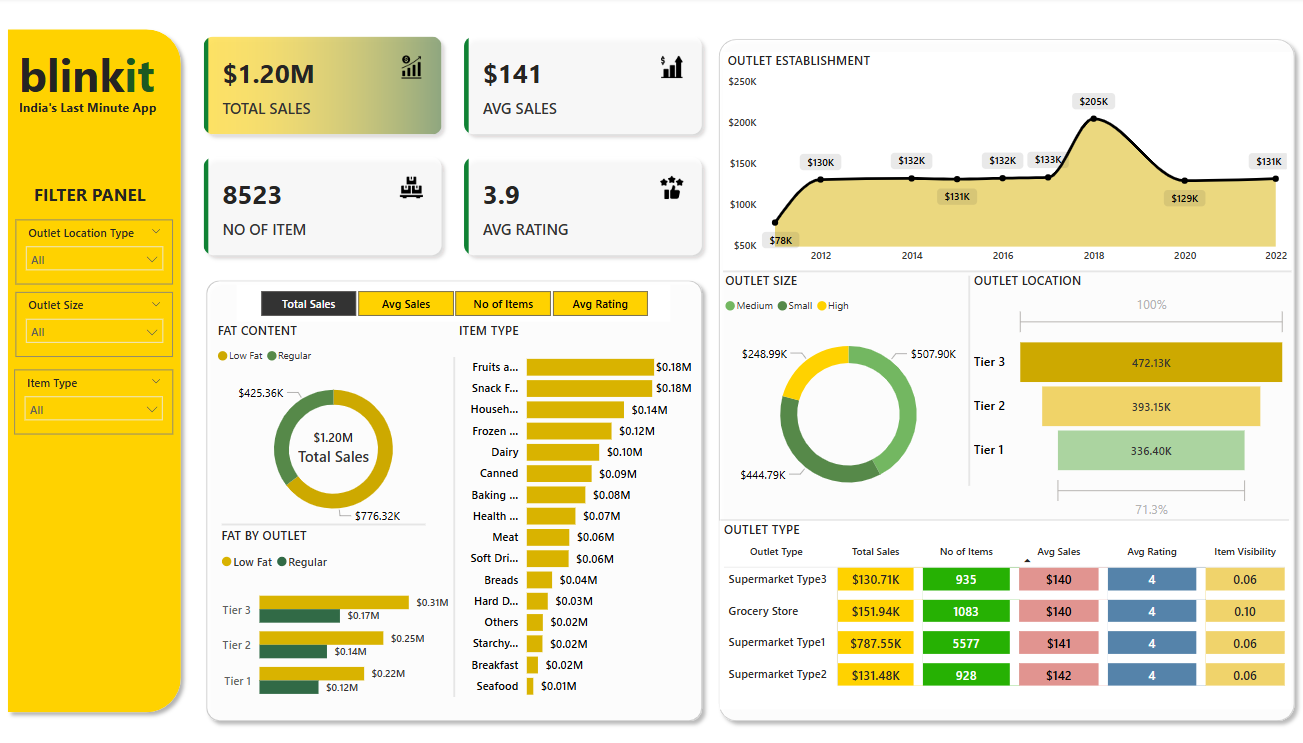

The page's visual inventory and layout, read from the dashboard file:
{"tool":"powerbi","page":{"name":"Page 1","canvas":[1400,800],"ordinal":0},"visuals":[{"type":"shape","box":[1.3,25.5,203.8,750.7],"z":0},{"type":"textbox","box":[17.4,45.6,170.2,81.8],"z":1000},{"type":"textbox","box":[17.4,104.6,170.2,36.2],"z":2000},{"type":"cardVisual","fields":{"Data":["BlinkIT Grocery Data.Total Sales","BlinkIT Grocery Data.Avg Sales","BlinkIT Grocery Data.No of Items","BlinkIT Grocery Data.Avg Rating"]},"box":[203.8,25.5,569.7,269.4],"z":3000},{"type":"shape","box":[214.5,294.9,549.6,490.6],"z":4000},{"type":"donutChart","title":"FAT CONTENT","fields":{"Y":["BlinkIT Grocery Data.Total Sales"],"Category":["BlinkIT Grocery Data.Item Fat Content"]},"box":[230.6,348.5,258.7,227.9],"z":5000},{"type":"slicer","fields":{"Values":["Metrices.Metrices"]},"box":[256,308.3,465.1,40.2],"z":6000},{"type":"cardVisual","fields":{"Data":["BlinkIT Grocery Data.Total Sales"]},"box":[284.2,446.4,151.5,68.4],"z":7000},{"type":"clusteredBarChart","title":"FAT BY OUTLET","fields":{"Y":["BlinkIT Grocery Data.Total Sales"],"Category":["BlinkIT Grocery Data.Outlet Location Type"],"Series":["BlinkIT Grocery Data.Item Fat Content"]},"box":[234.6,568.4,254.7,201.1],"z":8000},{"type":"shape","box":[466.5,386.1,45.6,364.6],"z":9000},{"type":"shape","box":[239.9,555,218.5,21.4],"z":10000},{"type":"barChart","title":"ITEM TYPE","fields":{"Y":["BlinkIT Grocery Data.Total Sales"],"Category":["BlinkIT Grocery Data.Item Type"]},"box":[489.3,348.5,260.1,414.2],"z":11000},{"type":"shape","box":[764.1,36.2,635.4,749.3],"z":12000},{"type":"lineChart","title":"OUTLET ESTABLISHMENT","fields":{"Category":["BlinkIT Grocery Data.Outlet Establishment Year"],"Y":["BlinkIT Grocery Data.Total Sales"]},"box":[777.5,59,609.9,235.9],"z":13000},{"type":"shape","box":[777.5,280.2,609.9,28.2],"z":14000},{"type":"donutChart","title":"OUTLET SIZE","fields":{"Y":["BlinkIT Grocery Data.Total Sales"],"Category":["BlinkIT Grocery Data.Outlet Size"]},"box":[774.8,294.9,274.8,260.1],"z":15000},{"type":"shape","box":[1018.8,298.9,45.6,225.2],"z":16000},{"type":"funnel","title":"OUTLET LOCATION","fields":{"Y":["Sum(BlinkIT Grocery Data.Sales)"],"Category":["BlinkIT Grocery Data.Outlet Location Type"]},"box":[1041.6,294.9,345.8,270.8],"z":17000},{"type":"shape","box":[774.8,546.9,609.9,28.2],"z":18000},{"type":"pivotTable","title":"OUTLET TYPE","fields":{"Values":["BlinkIT Grocery Data.Total Sales","BlinkIT Grocery Data.No of Items","BlinkIT Grocery Data.Avg Sales","BlinkIT Grocery Data.Avg Rating","Avg(BlinkIT Grocery Data.Item Visibility)"],"Rows":["BlinkIT Grocery Data.Outlet Type"]},"box":[773.5,561.7,613.9,202.4],"z":19000},{"type":"slicer","fields":{"Values":["BlinkIT Grocery Data.Outlet Location Type"]},"box":[18.8,238.6,168.9,69.7],"z":20000},{"type":"slicer","fields":{"Values":["BlinkIT Grocery Data.Outlet Size"]},"box":[18.8,316.4,168.9,69.7],"z":21000},{"type":"slicer","fields":{"Values":["BlinkIT Grocery Data.Item Type"]},"box":[17.4,399.5,170.2,69.7],"z":22000},{"type":"textbox","box":[33.5,194.4,143.4,34.9],"z":23000}]}

Visuals, with their boxes in screenshot pixels (x1, y1, x2, y2), scaled from the page's 1400x800 canvas onto the 1303x743 screenshot:
shape: [1,24,191,721]
textbox: [16,42,175,118]
textbox: [16,97,175,131]
cardVisual - BlinkIT Grocery Data.Total Sales x BlinkIT Grocery Data.Avg Sales: [190,24,720,274]
shape: [200,274,711,730]
"FAT CONTENT" donutChart: [215,324,455,535]
slicer - Metrices.Metrices: [238,286,671,324]
cardVisual - BlinkIT Grocery Data.Total Sales: [265,415,406,478]
"FAT BY OUTLET" clusteredBarChart: [218,528,455,715]
shape: [434,359,477,697]
shape: [223,515,427,535]
"ITEM TYPE" barChart: [455,324,697,708]
shape: [711,34,1302,730]
"OUTLET ESTABLISHMENT" lineChart: [724,55,1291,274]
shape: [724,260,1291,286]
"OUTLET SIZE" donutChart: [721,274,977,515]
shape: [948,278,991,487]
"OUTLET LOCATION" funnel: [969,274,1291,525]
shape: [721,508,1289,534]
"OUTLET TYPE" pivotTable: [720,522,1291,710]
slicer - BlinkIT Grocery Data.Outlet Location Type: [17,222,175,286]
slicer - BlinkIT Grocery Data.Outlet Size: [17,294,175,359]
slicer - BlinkIT Grocery Data.Item Type: [16,371,175,436]
textbox: [31,181,165,213]
